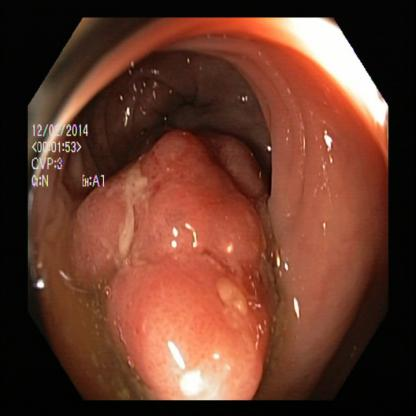Labels: (29, 124, 119, 198)
Polyps: (89, 199, 269, 395), (132, 131, 266, 198)
